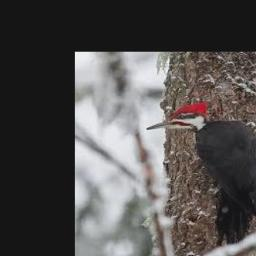Woodpecker: (147, 101, 256, 246)
